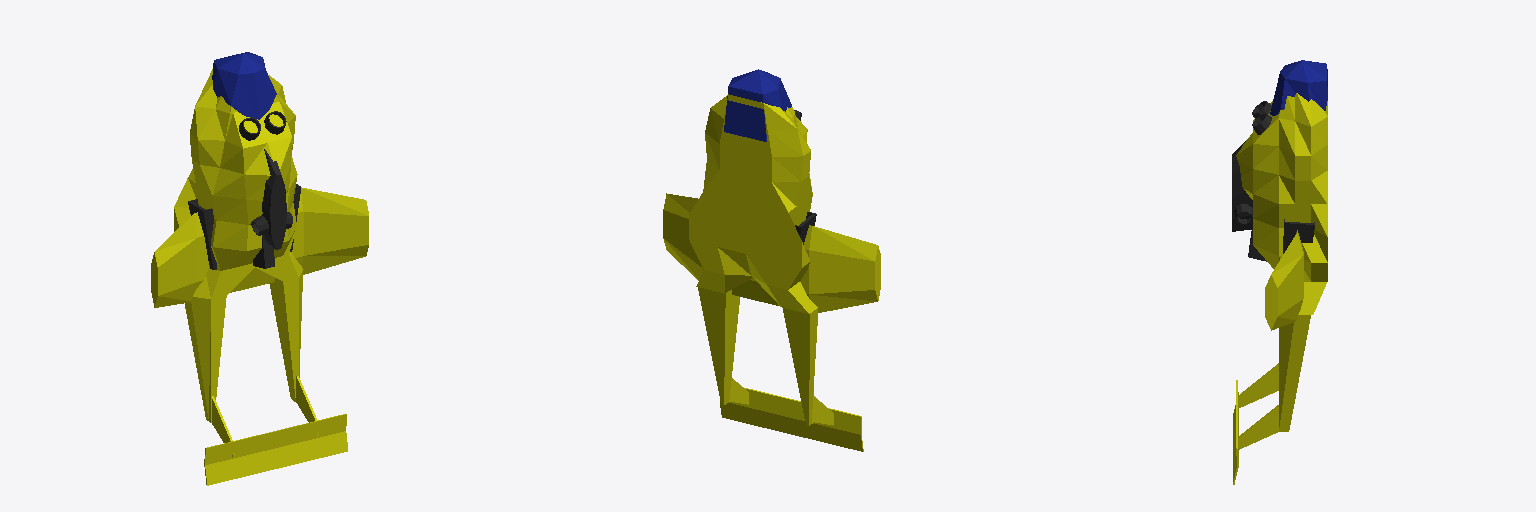
File: helicoCorp.obj
The picture shows the model from 3 angles: view 1: azimuth 30°, elevation 25°; view 2: azimuth 150°, elevation 25°; view 3: azimuth 270°, elevation 25°; orthographic projection.
Parts seen in each view (by area): view 1: helico, aile, derive, cabine, moteur, Tube005; view 2: helico, aile, derive, cabine; view 3: helico, aile, cabine, moteur, aileronD, aileronG, Tube005.
Boxes of the visible parts, x1=… form: helico: x1=174, y1=69, x2=302, y2=422; aile: x1=151, y1=187, x2=368, y2=307; derive: x1=204, y1=414, x2=347, y2=485; cabine: x1=212, y1=52, x2=276, y2=119; moteur: x1=262, y1=149, x2=286, y2=249; Tube005: x1=188, y1=184, x2=300, y2=269; helico: x1=689, y1=94, x2=817, y2=425; aile: x1=663, y1=193, x2=880, y2=312; derive: x1=720, y1=387, x2=863, y2=451; cabine: x1=724, y1=69, x2=791, y2=141; helico: x1=1236, y1=93, x2=1327, y2=431; aile: x1=1265, y1=230, x2=1303, y2=330; cabine: x1=1270, y1=60, x2=1327, y2=115; moteur: x1=1232, y1=141, x2=1252, y2=231; aileronD: x1=1238, y1=405, x2=1278, y2=449; aileronG: x1=1238, y1=363, x2=1278, y2=407; Tube005: x1=1283, y1=219, x2=1314, y2=253.
Bounding box in the file's own units: 15 × 26.4 × 5.93.